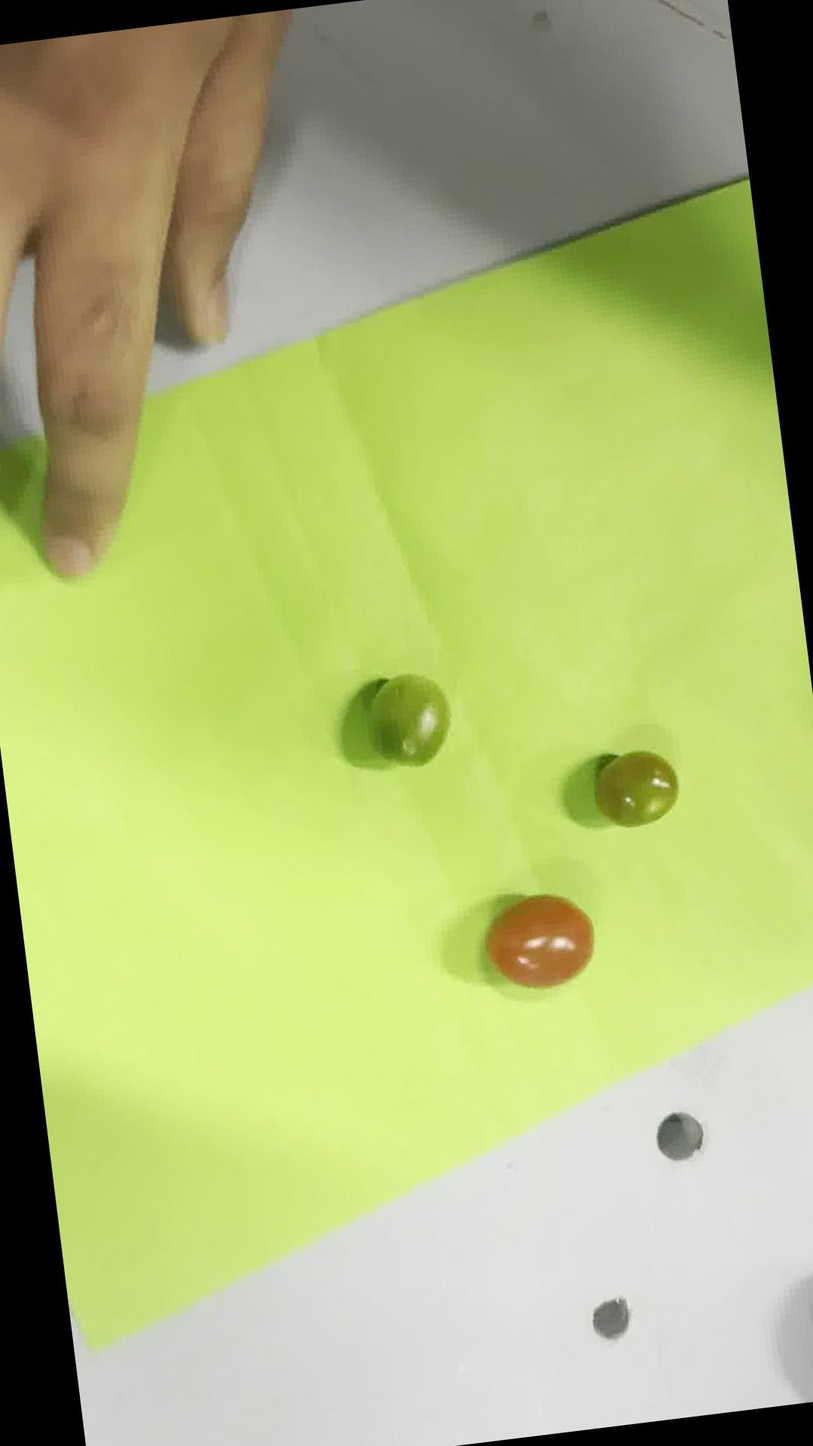green_cherry_tomato: (369, 673, 449, 765)
red_cherry_tomato: (483, 894, 593, 990)
yellow_cherry_tomato: (593, 750, 678, 827)
